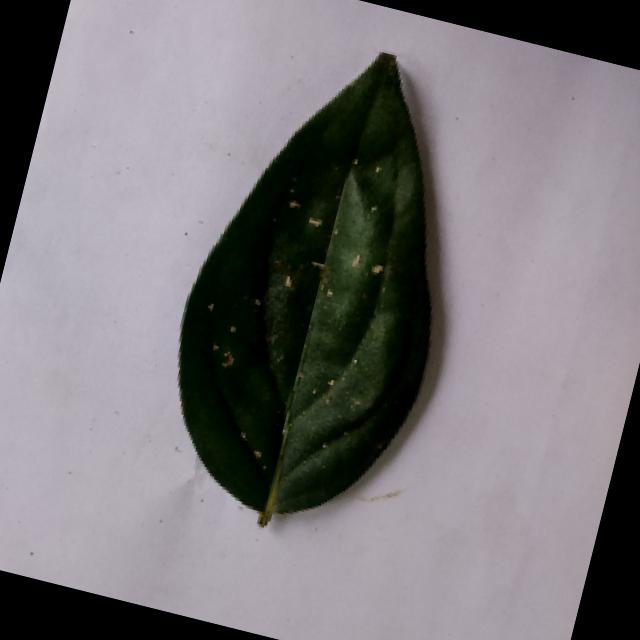pollu-disease: (126, 21, 519, 567)
